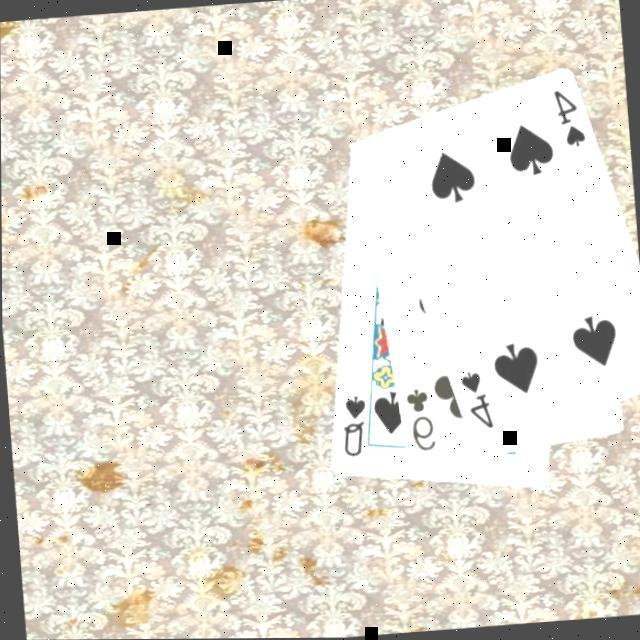4S: (456, 366, 497, 434), (550, 84, 591, 152)
6C: (401, 384, 440, 455)
QS: (336, 390, 373, 460)
